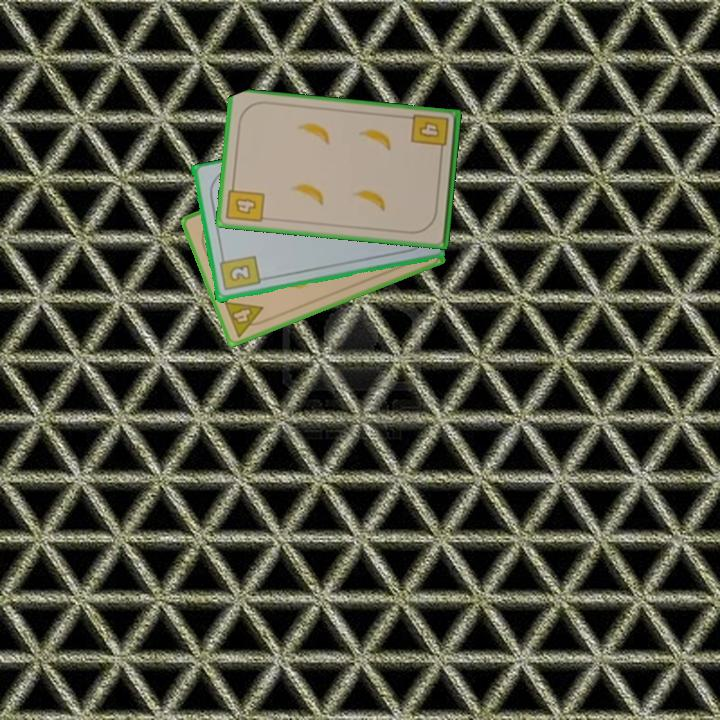2b: (216, 252, 262, 294)
4b: (223, 179, 267, 226), (408, 111, 452, 158)
4p: (220, 297, 271, 340)
